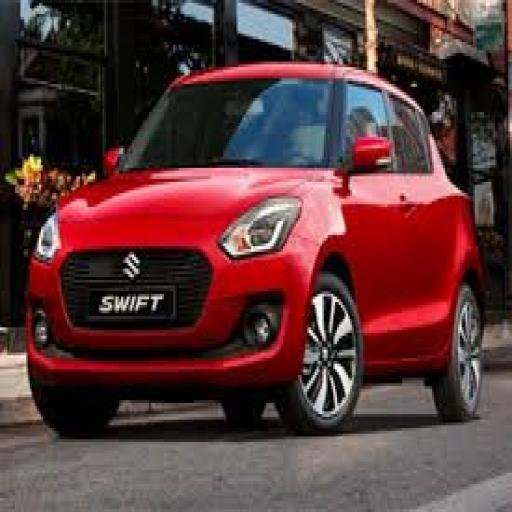car: (16, 39, 488, 484)
